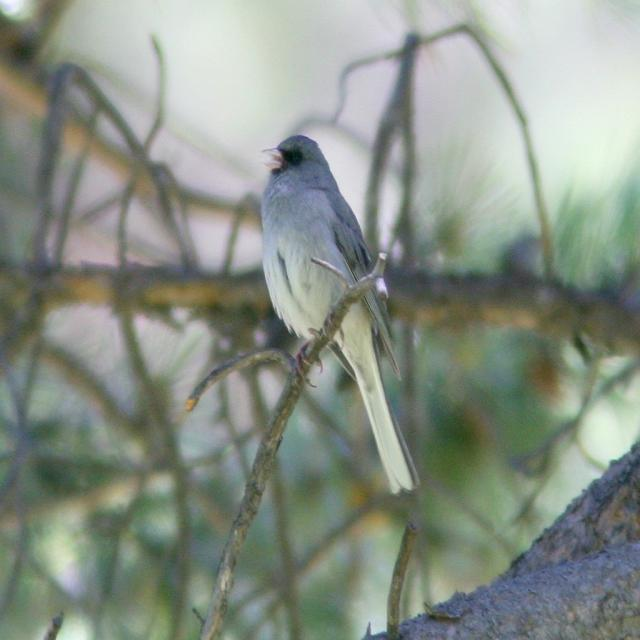bird: (261, 112, 418, 512)
